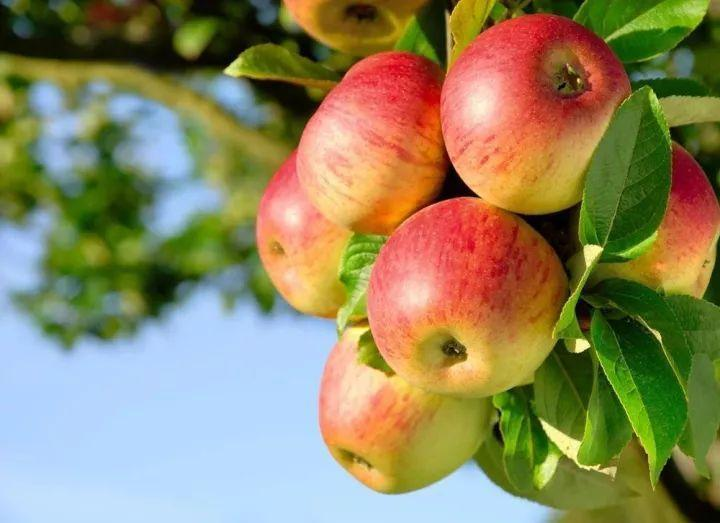apple: (362, 196, 576, 400), (441, 8, 631, 218), (318, 318, 494, 495), (298, 44, 451, 235), (254, 141, 386, 321), (596, 142, 719, 303)
